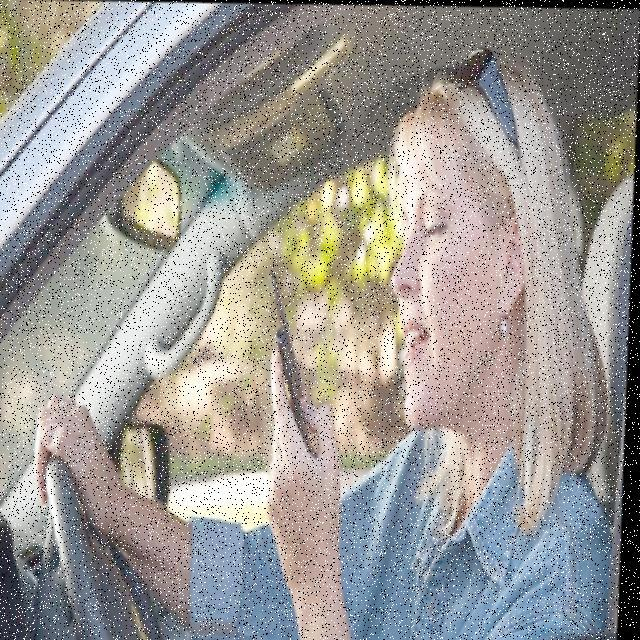noSeatbelt: (324, 375, 614, 640)
